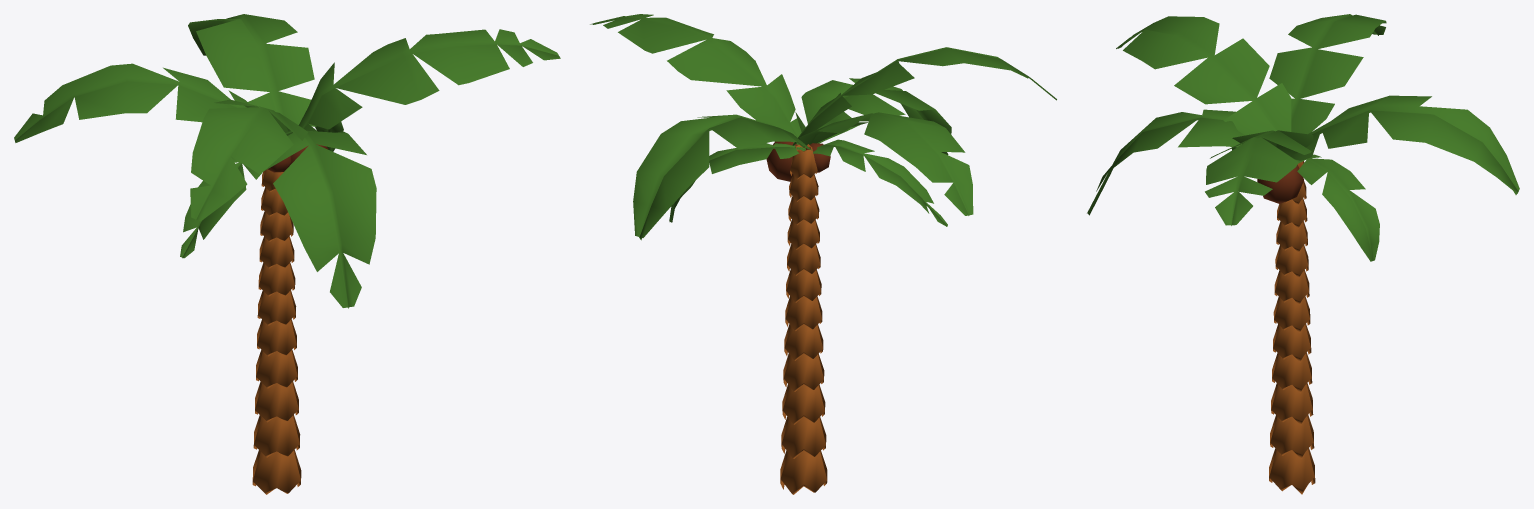
The model's file is SM_Palm_Tree_Coconut_A.fbx.
3 views of the same model, side by side, from view 1: azimuth 30°, elevation 25°; view 2: azimuth 150°, elevation 25°; view 3: azimuth 270°, elevation 25° (orthographic). The views are drawn at different scales.
Parts seen in each view (by area): view 1: SM_Palm_Tree_Coconut_A.001; view 2: SM_Palm_Tree_Coconut_A.001; view 3: SM_Palm_Tree_Coconut_A.001.
Part boxes in pixels (box(x1,y1,x2,y2)): SM_Palm_Tree_Coconut_A.001: box(14, 14, 560, 494); SM_Palm_Tree_Coconut_A.001: box(590, 14, 1056, 494); SM_Palm_Tree_Coconut_A.001: box(1087, 14, 1519, 494).
Size of the model in its own units: 944 by 794 by 839.
